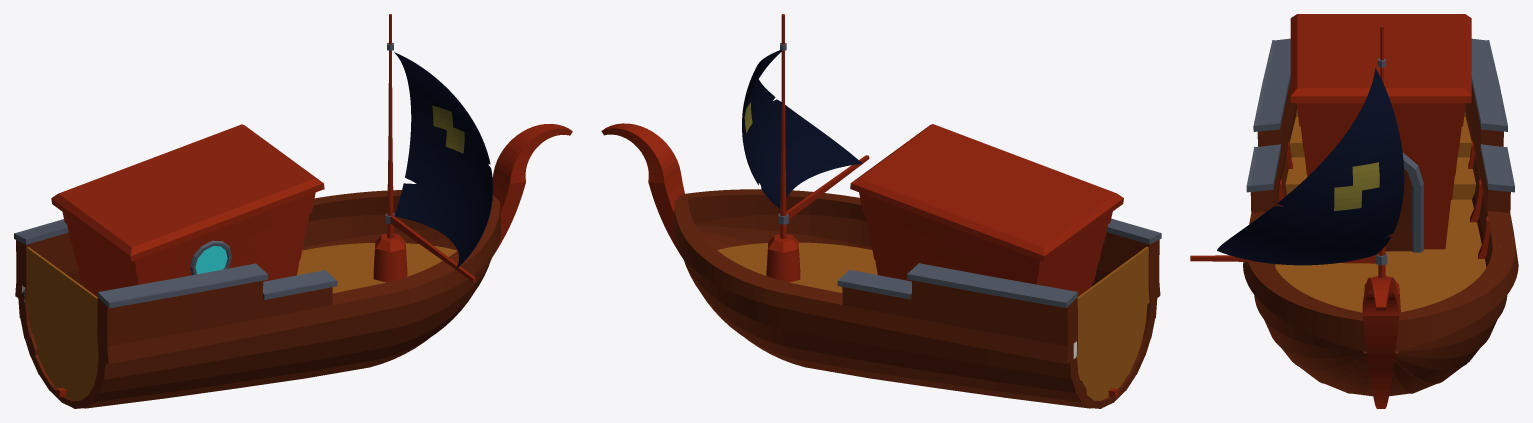
The model's file is barco_3_final.fbx.
3 views of the same model, side by side, from view 1: azimuth 30°, elevation 25°; view 2: azimuth 150°, elevation 25°; view 3: azimuth 270°, elevation 25° (orthographic). The views are drawn at different scales.
Visible parts, largest first — view 1: Box023, Box026, barco_3, Plane023, Box022, Box025, Cylinder062, Cylinder061; view 2: Box025, Box026, barco_3, Box022, Plane023, Box023, Cylinder062; view 3: Box026, barco_3, Plane023, Box022, Box025, Box023, Torus001, Cylinder062, Box027, Box020.
Part boxes in pixels (<box>): Box023: <box>62,263,399,408</box>; Box026: <box>51,124,324,296</box>; barco_3: <box>56,124,572,397</box>; Plane023: <box>394,52,492,268</box>; Box022: <box>26,243,457,400</box>; Box025: <box>14,219,83,402</box>; Cylinder062: <box>373,14,475,282</box>; Cylinder061: <box>195,246,227,274</box>; Box025: <box>775,263,1113,408</box>; Box026: <box>850,124,1123,296</box>; barco_3: <box>601,123,1118,397</box>; Box022: <box>717,242,1149,400</box>; Plane023: <box>742,50,862,208</box>; Box023: <box>1091,218,1161,402</box>; Cylinder062: <box>766,14,869,282</box>; Box026: <box>1290,14,1471,249</box>; barco_3: <box>1243,246,1518,408</box>; Plane023: <box>1217,68,1404,265</box>; Box022: <box>1275,108,1486,312</box>; Box025: <box>1465,38,1518,267</box>; Box023: <box>1246,38,1296,267</box>; Torus001: <box>1402,152,1423,252</box>; Cylinder062: <box>1190,25,1400,312</box>; Box027: <box>1385,168,1411,251</box>; Box020: <box>1278,179,1482,222</box>.
Size of the model in its own units: 889 by 551 by 433.
